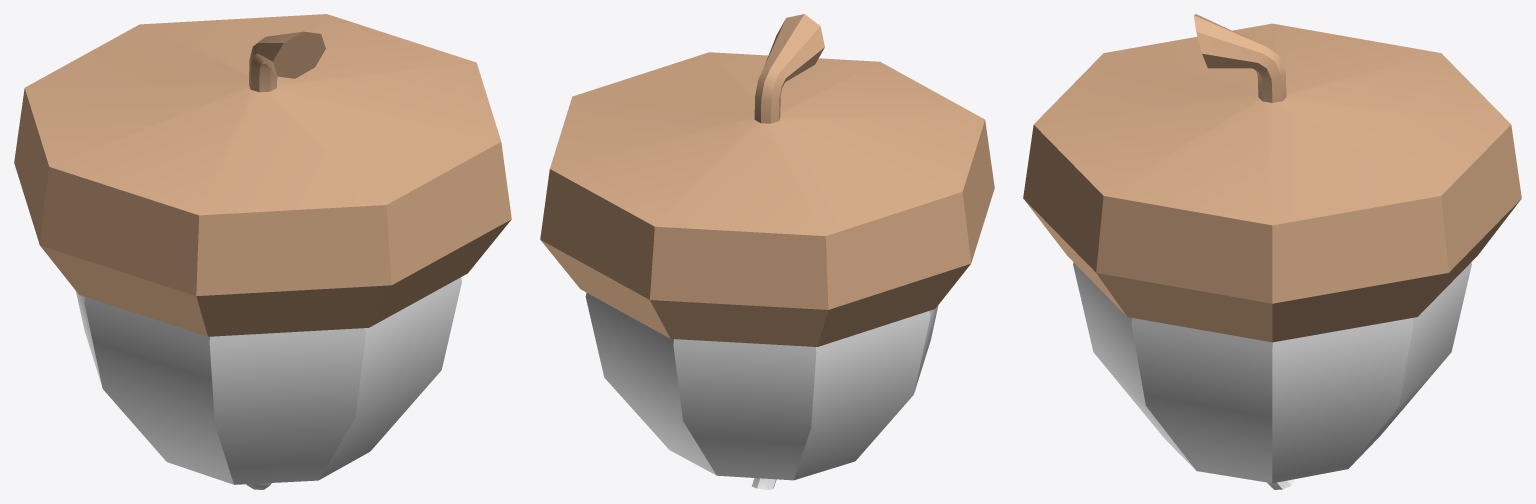
Rendered from Acorn.glb.
The picture shows the model from 3 angles, left to right: view 1: azimuth 30°, elevation 25°; view 2: azimuth 150°, elevation 25°; view 3: azimuth 270°, elevation 25°; orthographic projection. The views are drawn at different scales.
Parts seen in each view (by area): view 1: TpPart, BtPart; view 2: TpPart, BtPart; view 3: TpPart, BtPart.
Boxes of the visible parts, x1,y1,x2,y2 form: TpPart: (14, 14, 511, 336); BtPart: (76, 277, 461, 489); TpPart: (540, 14, 994, 346); BtPart: (585, 292, 938, 489); TpPart: (1023, 14, 1521, 342); BtPart: (1073, 262, 1471, 489).
Size of the model in its own units: 2.27 by 2.37 by 2.27.
